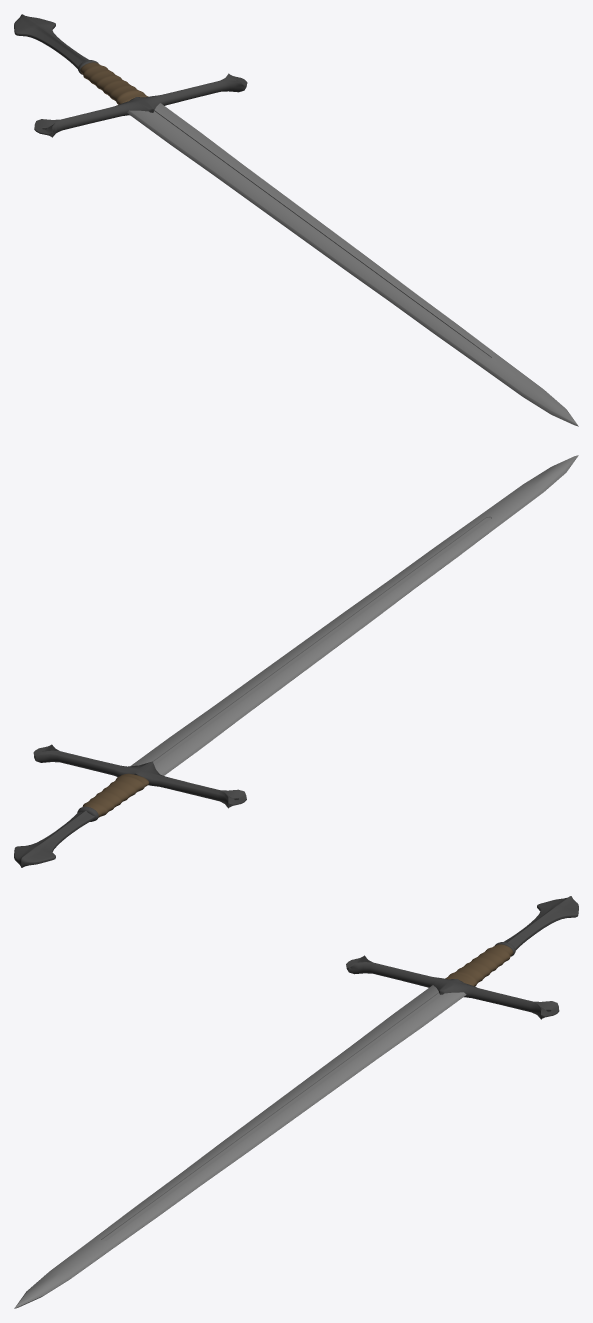
Rendered from Sword.fbx.
3 renders of one model, top to bottom at view 1: azimuth 30°, elevation 25°; view 2: azimuth 150°, elevation 25°; view 3: azimuth 330°, elevation 25°, orthographic.
Visible parts, largest first — view 1: Cube_3, Cube_2, Cube, Lathe_NURBS_2; view 2: Cube_3, Cube_2, Cube, Lathe_NURBS_2; view 3: Cube_3, Cube_2, Cube, Lathe_NURBS_2.
Part boxes in pixels (x1=…): Cube_3: x1=127, y1=103, x2=578, y2=426; Cube_2: x1=34, y1=73, x2=247, y2=137; Cube: x1=14, y1=14, x2=88, y2=68; Lathe_NURBS_2: x1=80, y1=62, x2=148, y2=104; Cube_3: x1=130, y1=455, x2=578, y2=775; Cube_2: x1=33, y1=744, x2=246, y2=808; Cube: x1=14, y1=810, x2=94, y2=867; Lathe_NURBS_2: x1=82, y1=773, x2=149, y2=817; Cube_3: x1=14, y1=985, x2=466, y2=1308; Cube_2: x1=346, y1=955, x2=559, y2=1019; Cube: x1=504, y1=896, x2=578, y2=950; Lathe_NURBS_2: x1=445, y1=944, x2=513, y2=986.
Size of the model in its own units: 40.03 by 2.49 by 185.
